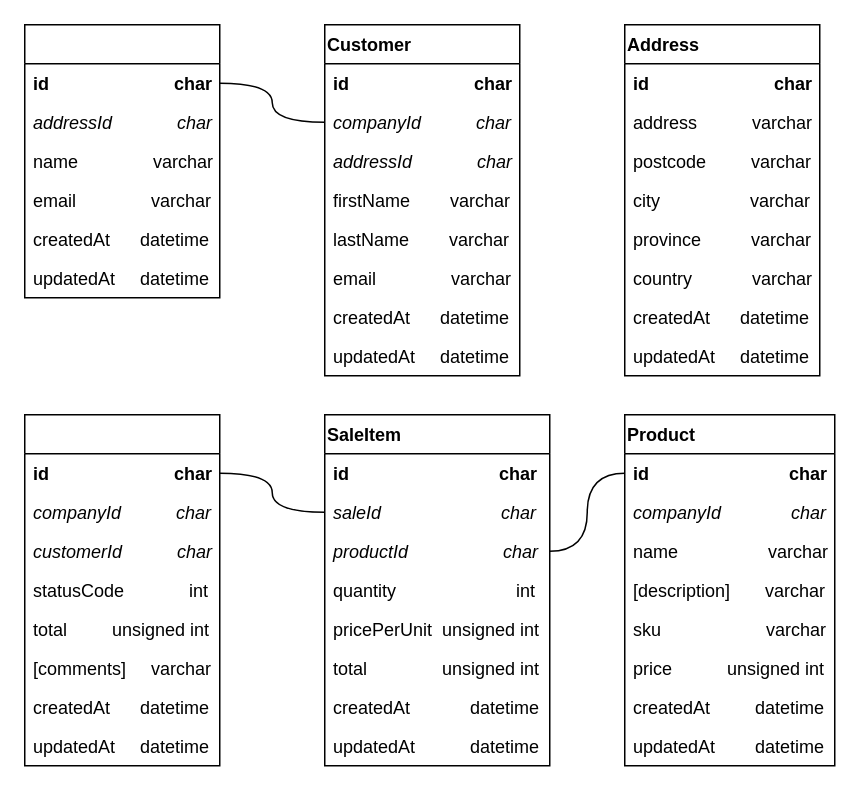
The diagram is 860 pixels wide and 791 high, and some of its shapes have lost their labels. Here are the shapes that lost their labels. From the top down, the box of each, then its label:
(23, 23, 220, 298): Company
(23, 413, 220, 766): Sale
